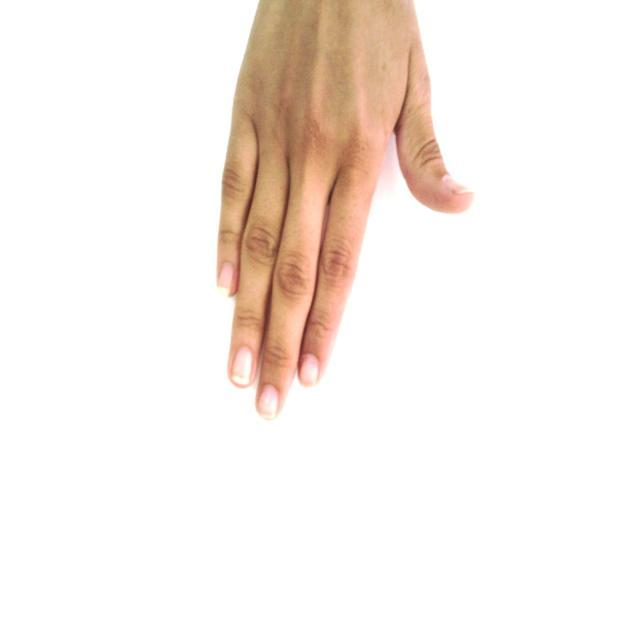Fingernail: (233, 346, 254, 385), (259, 386, 279, 419), (300, 355, 318, 388), (443, 175, 470, 195), (218, 263, 235, 294)
